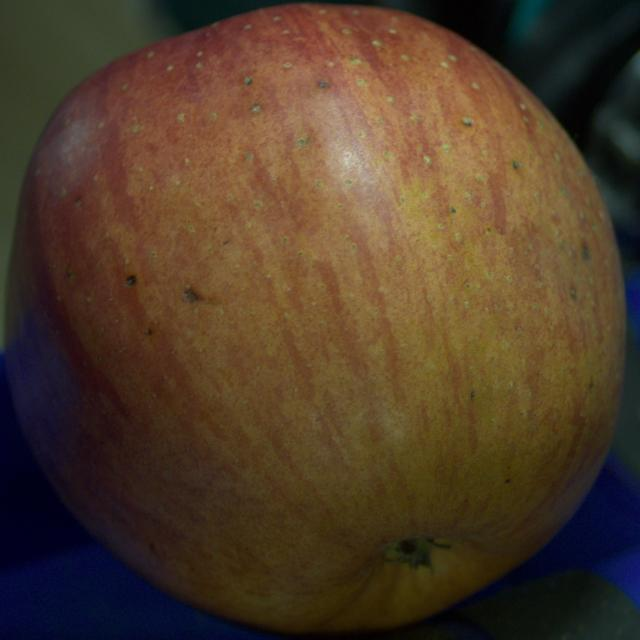apple: (5, 3, 625, 632)
pest: (182, 286, 201, 303), (125, 275, 136, 287), (583, 246, 591, 261), (462, 118, 472, 125), (319, 81, 328, 88), (75, 196, 81, 206), (245, 76, 252, 84), (512, 161, 519, 168), (147, 328, 152, 334)
